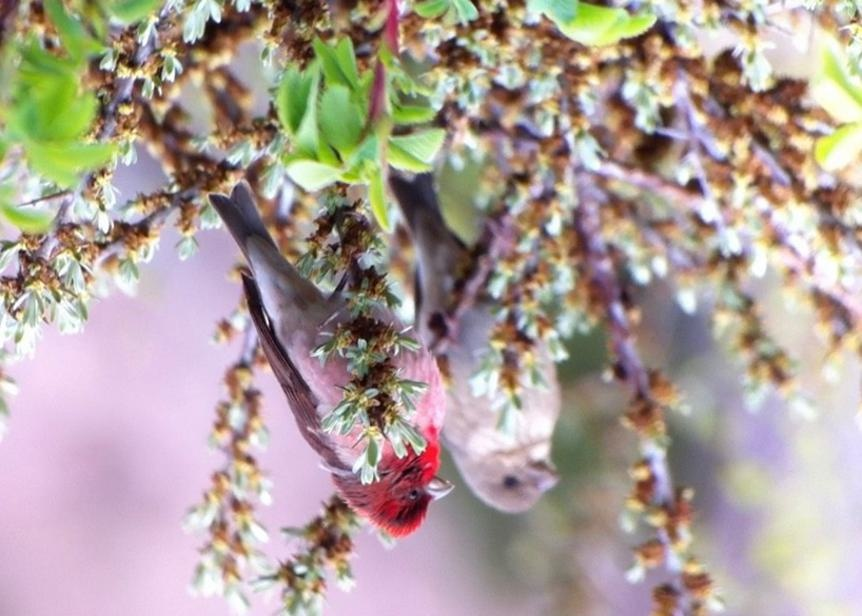rosefinch: (230, 186, 476, 542)
